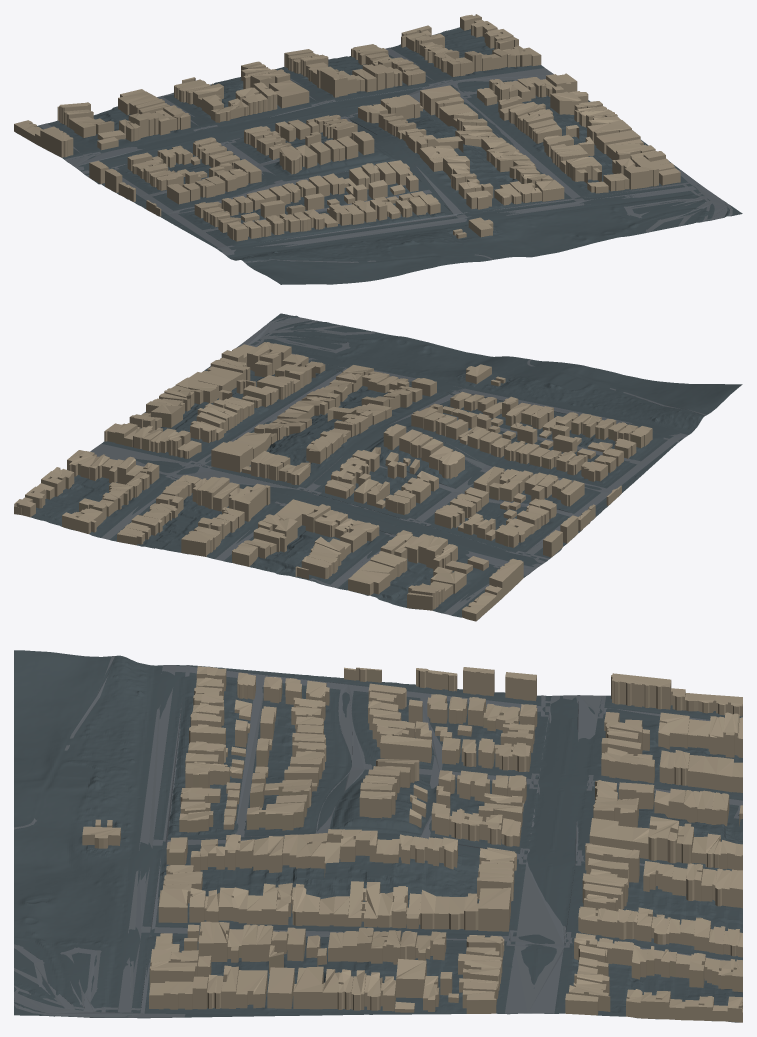
The model's file is epsg26910-1417-10889.lod0.glb.
3 views of the same model, one above another, from view 1: azimuth 30°, elevation 25°; view 2: azimuth 150°, elevation 25°; view 3: azimuth 270°, elevation 25° (orthographic). The views are drawn at different scales.
Visible parts, largest first — view 1: epsg26910-1417-10889-lod0; view 2: epsg26910-1417-10889-lod0; view 3: epsg26910-1417-10889-lod0.
Part boxes in pixels (x1,y1,x2,y2): epsg26910-1417-10889-lod0: [14, 14, 742, 284]; epsg26910-1417-10889-lod0: [14, 313, 742, 621]; epsg26910-1417-10889-lod0: [14, 650, 742, 1022].
Size of the model in its own units: 384 by 39.71 by 384.
